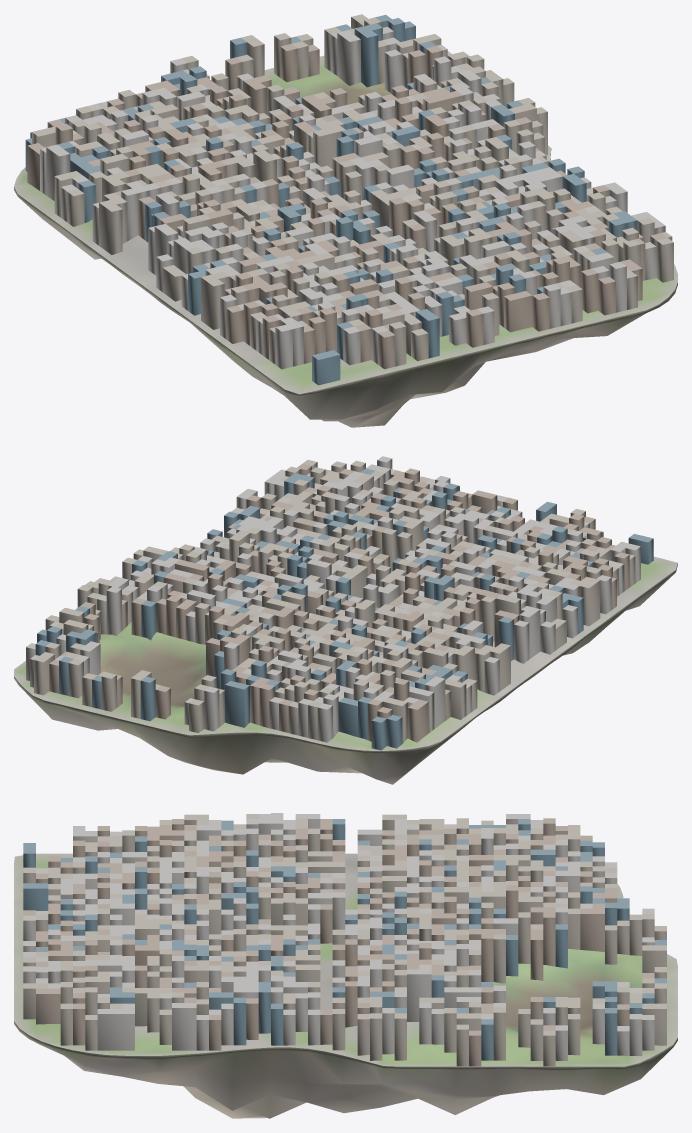
File: SKY-062.lod1.glb
3 renders of one model, top to bottom at view 1: azimuth 30°, elevation 25°; view 2: azimuth 150°, elevation 25°; view 3: azimuth 270°, elevation 25°, orthographic. The views are drawn at different scales.
Visible parts, largest first — view 1: warren_hull, deck, rock; view 2: warren_hull, deck, rock; view 3: warren_hull, rock, deck.
Part boxes in pixels (x1,y1,x2,y2): warren_hull: [25, 14, 673, 385]; deck: [14, 55, 677, 394]; rock: [14, 148, 677, 427]; warren_hull: [26, 456, 653, 750]; deck: [14, 556, 677, 750]; rock: [14, 563, 677, 784]; warren_hull: [23, 813, 666, 1066]; rock: [14, 1021, 677, 1118]; deck: [14, 853, 677, 1066].
Size of the model in its own units: 244 by 115 by 322.
